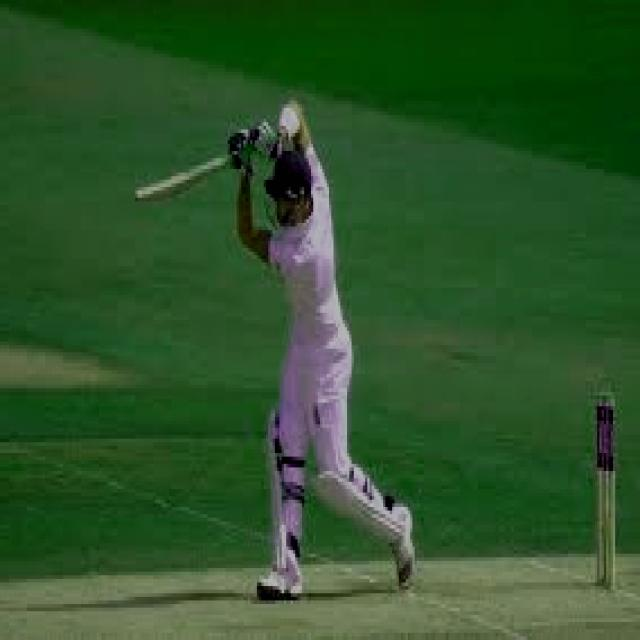toe: (134, 179, 159, 208)
